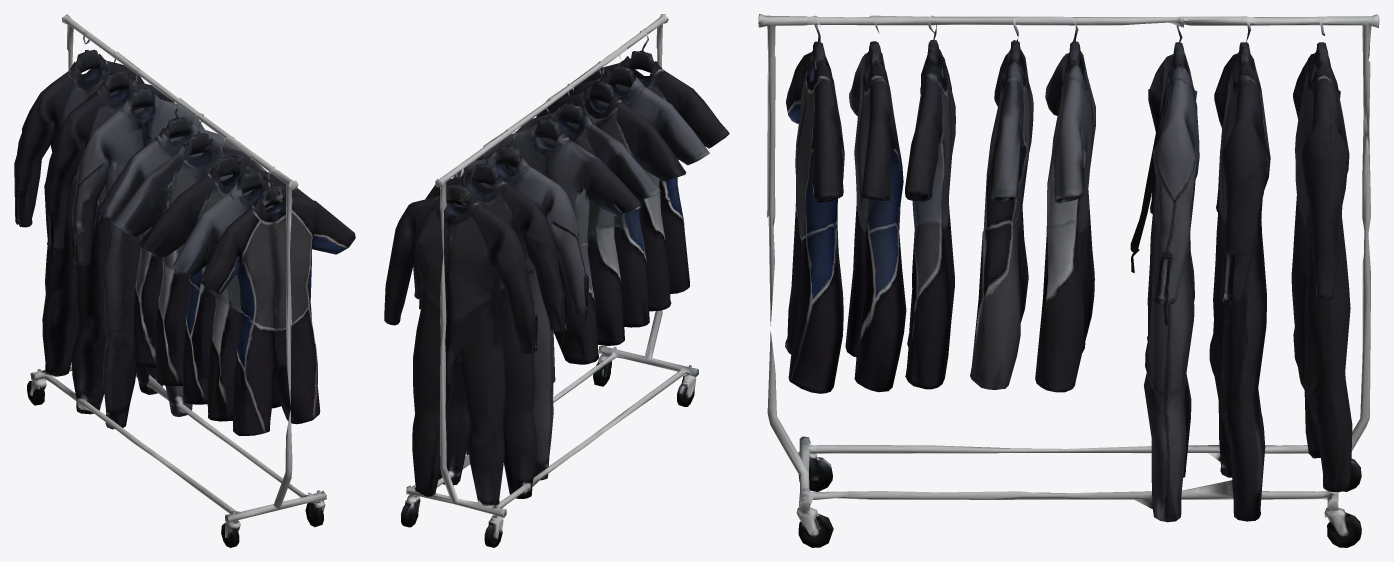
The model's file is rek-pakken.glb.
3 views of the same model, side by side, from view 1: azimuth 30°, elevation 25°; view 2: azimuth 150°, elevation 25°; view 3: azimuth 270°, elevation 25° (orthographic). The views are drawn at different scales.
Visible parts, largest first — view 1: tripo_node_65a71424-31ff-4373-bdbb-eb5103154b43; view 2: tripo_node_65a71424-31ff-4373-bdbb-eb5103154b43; view 3: tripo_node_65a71424-31ff-4373-bdbb-eb5103154b43.
Boxes of the visible parts, box(x1,y1,x2,y2) form: tripo_node_65a71424-31ff-4373-bdbb-eb5103154b43: box(14, 14, 355, 547); tripo_node_65a71424-31ff-4373-bdbb-eb5103154b43: box(384, 14, 729, 547); tripo_node_65a71424-31ff-4373-bdbb-eb5103154b43: box(758, 14, 1379, 547).
Bounding box in the file's own units: 0.8804 × 1.8 × 2.01.
1 material, 1 textured.
